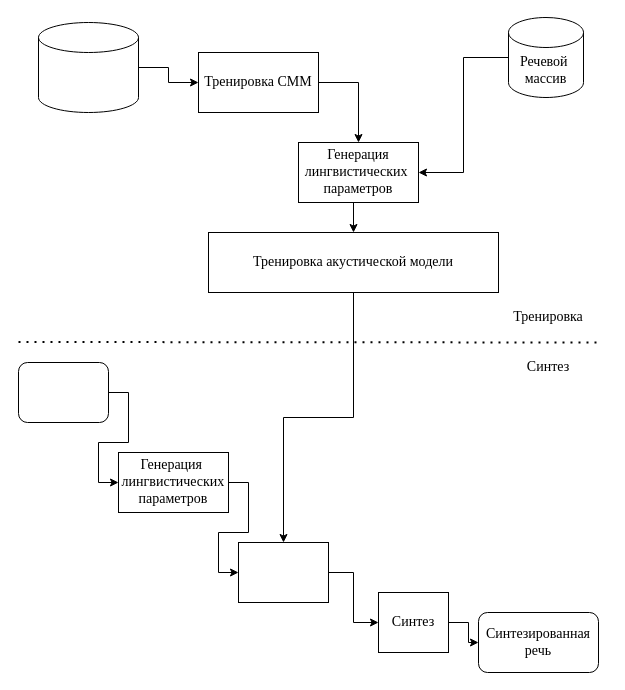
Some shapes in this 625 by 690 pixel diagram are drawn without their labels. The shapes that lost their labels are listed below. From the top down, each one's centre as x and y in pixels, then its label:
the point at 88,67: Фонетический массив
the point at 63,392: Исходный текст
the point at 283,572: Генерация акустических параметров
